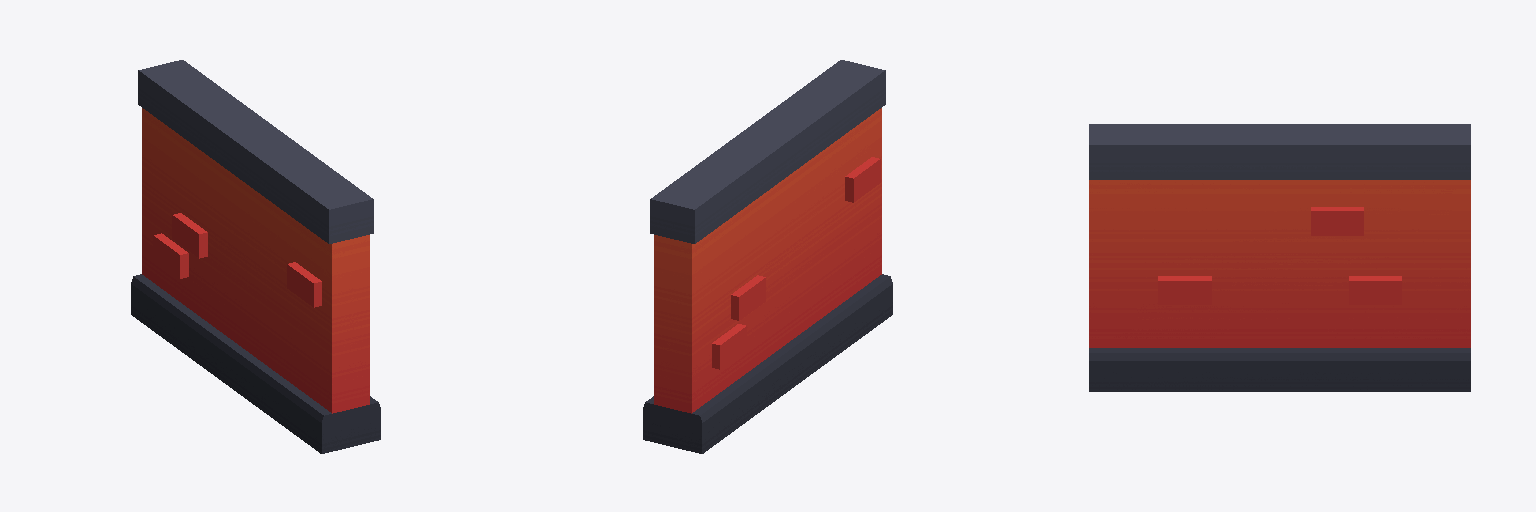
The picture shows the model from 3 angles: view 1: azimuth 30°, elevation 25°; view 2: azimuth 150°, elevation 25°; view 3: azimuth 270°, elevation 25°; orthographic projection.
Visible parts, largest first — view 1: brick-wall.002; view 2: brick-wall.002; view 3: brick-wall.002.
Boxes of the visible parts, <box> form: brick-wall.002: <box>131,60,380,453</box>; brick-wall.002: <box>643,60,892,453</box>; brick-wall.002: <box>1089,124,1470,391</box>.
Bounding box in the file's own units: 0.441 × 1.72 × 2.45.
1 materials, 1 textured.